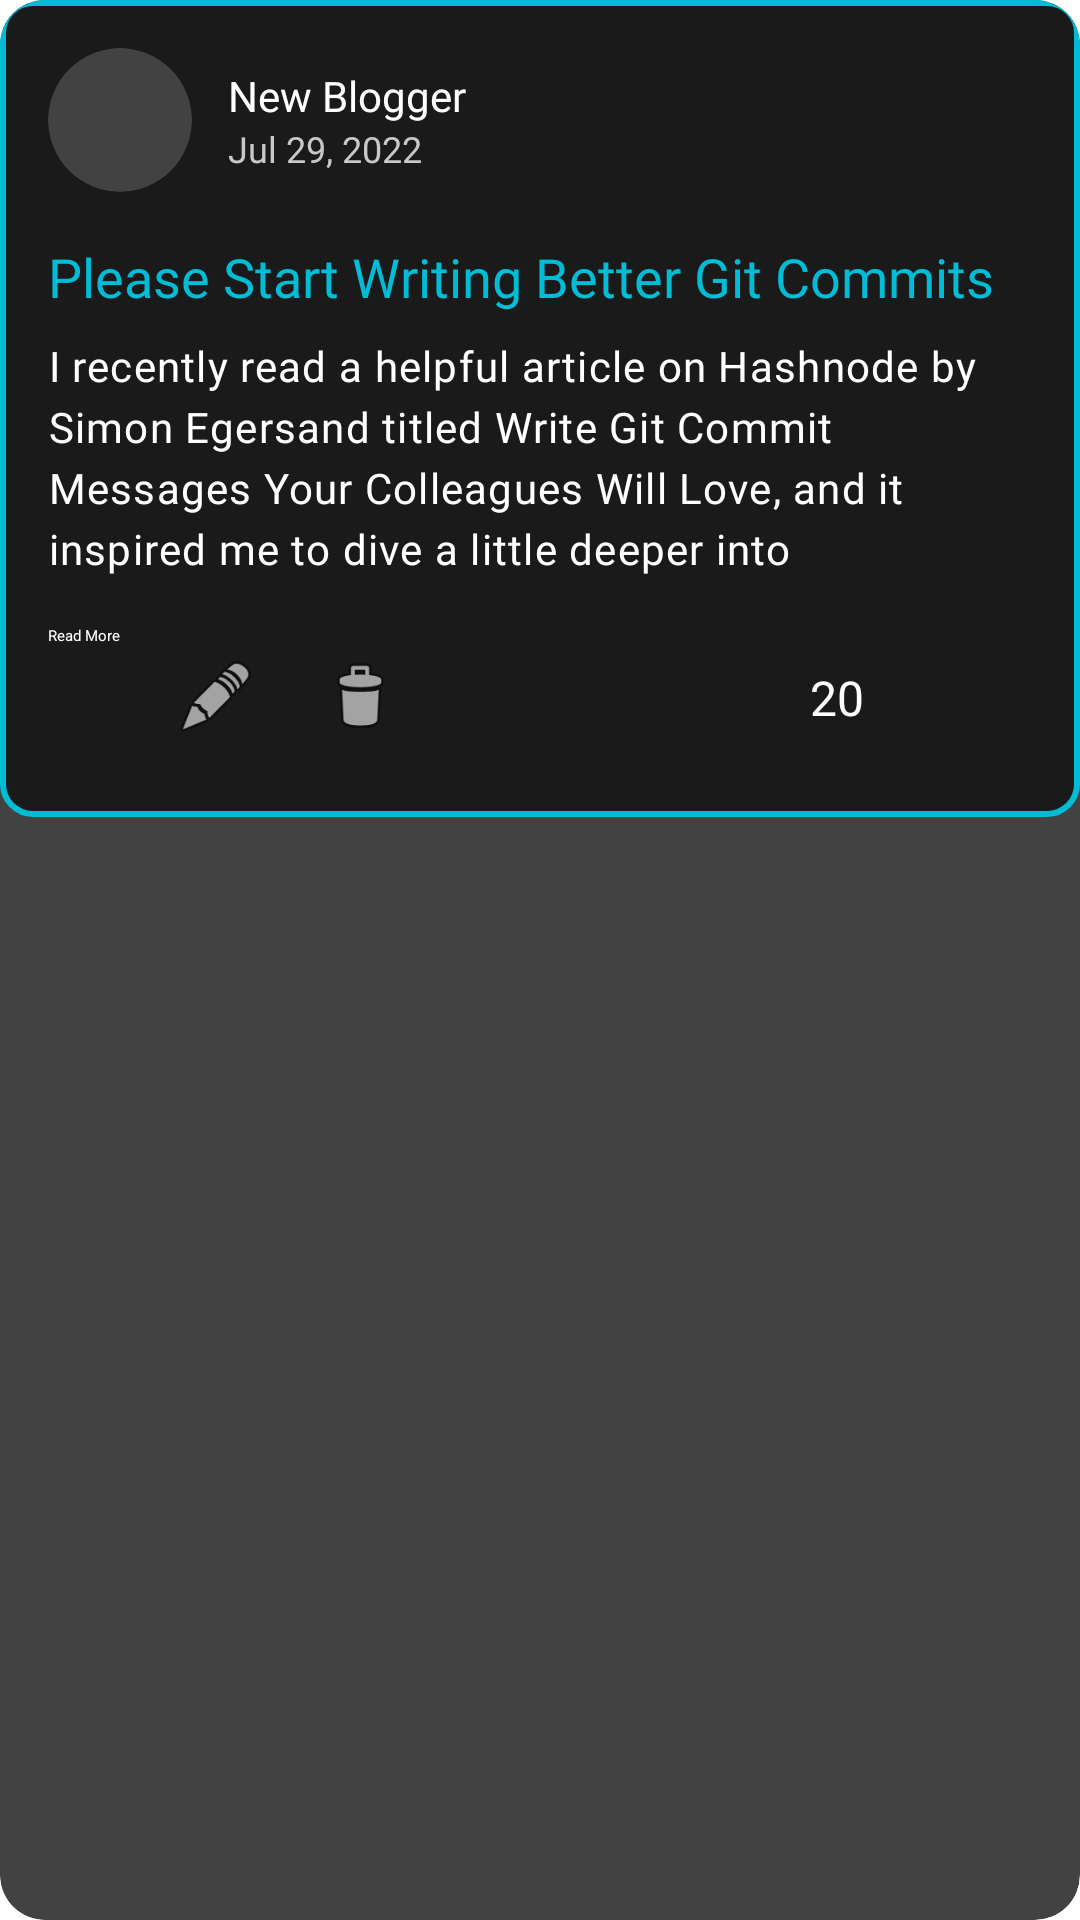

Named icons in this screenshot (1080w x 1920h) and their bounding boxes, (x1, y1, x2, y2):
Delete Button: (339, 665, 382, 726)
Edit Button: (183, 664, 249, 729)
